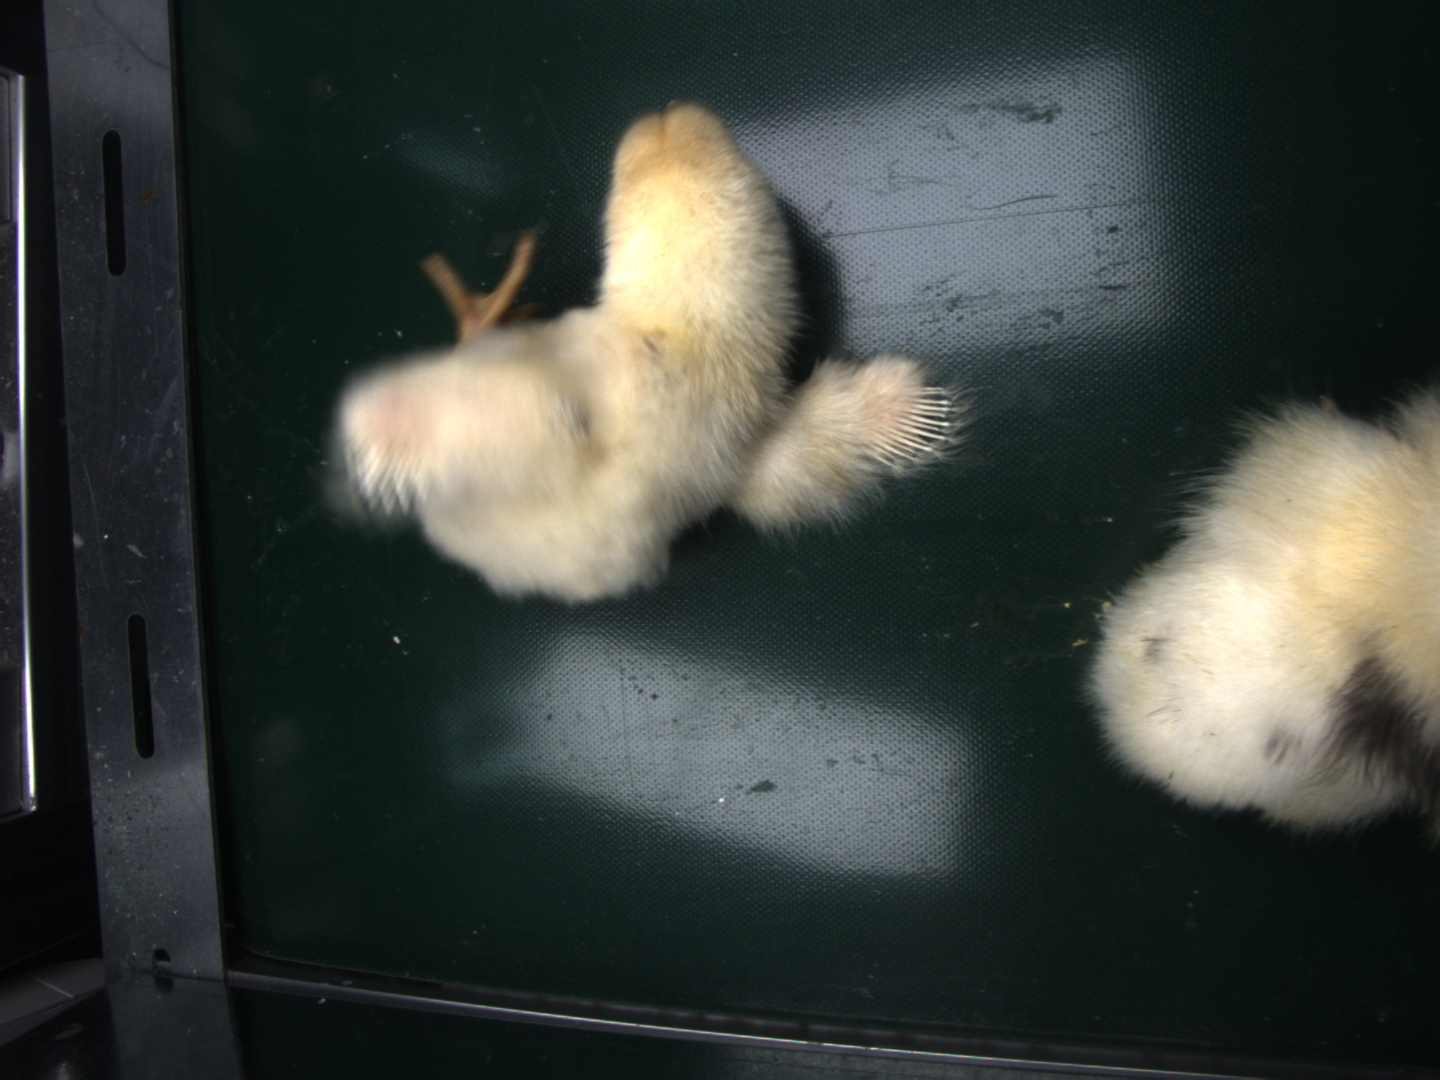male: (878, 390, 951, 466)
